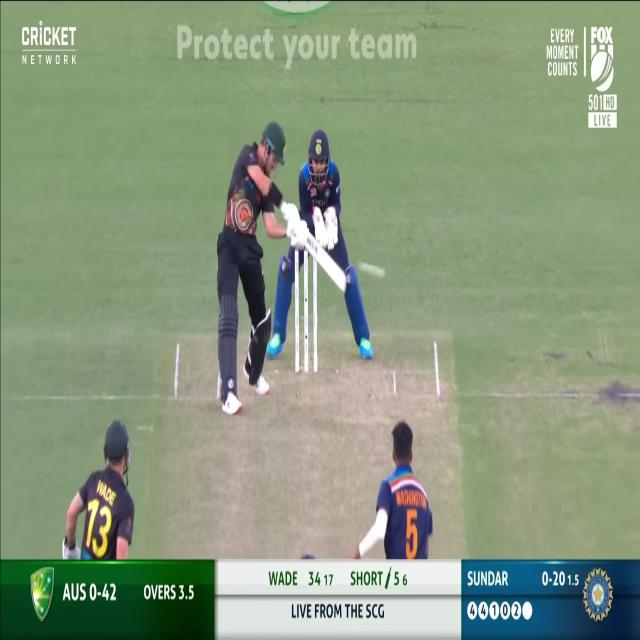stump: (294, 248, 319, 375)
